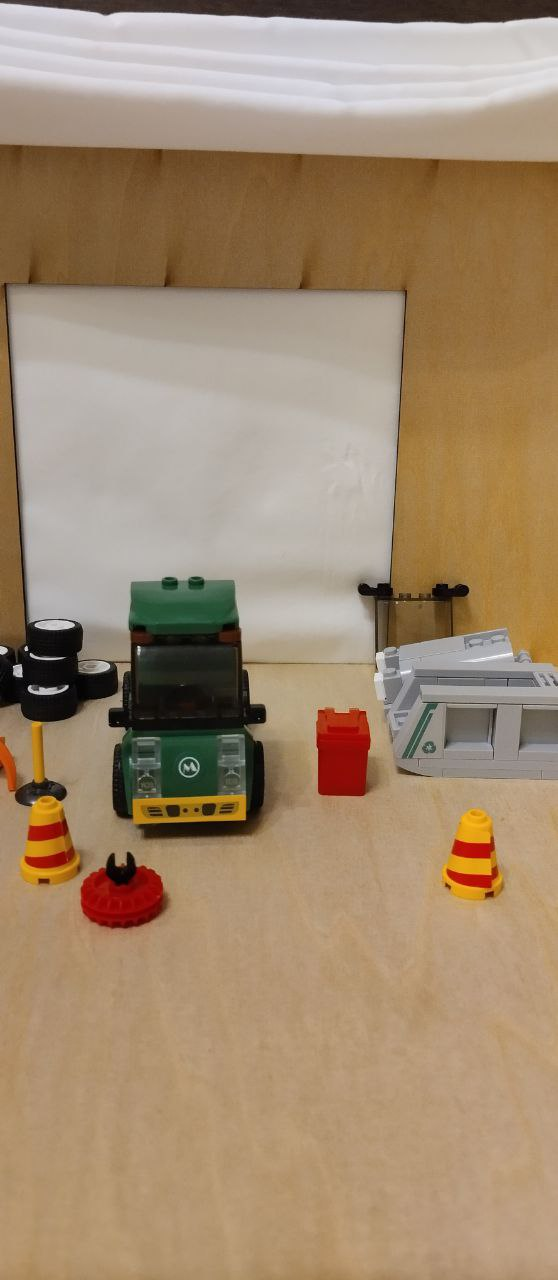Cone: (15, 796, 85, 888), (437, 811, 505, 902)
Object Red: (305, 703, 372, 802)
Truck: (99, 570, 276, 838)
